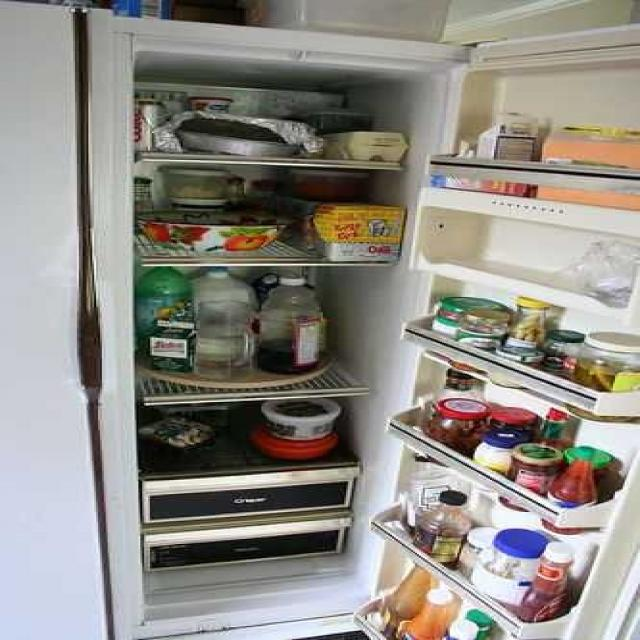refrigerator: (36, 5, 640, 640)
